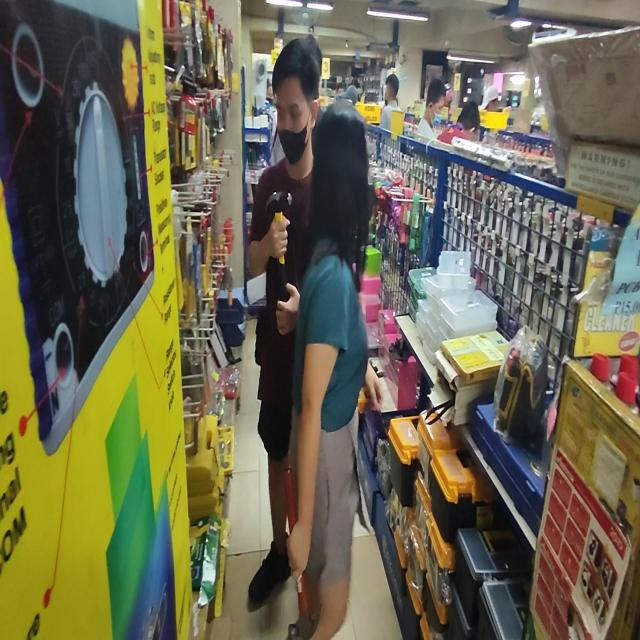hammer: (282, 462, 322, 638), (264, 191, 293, 313)
